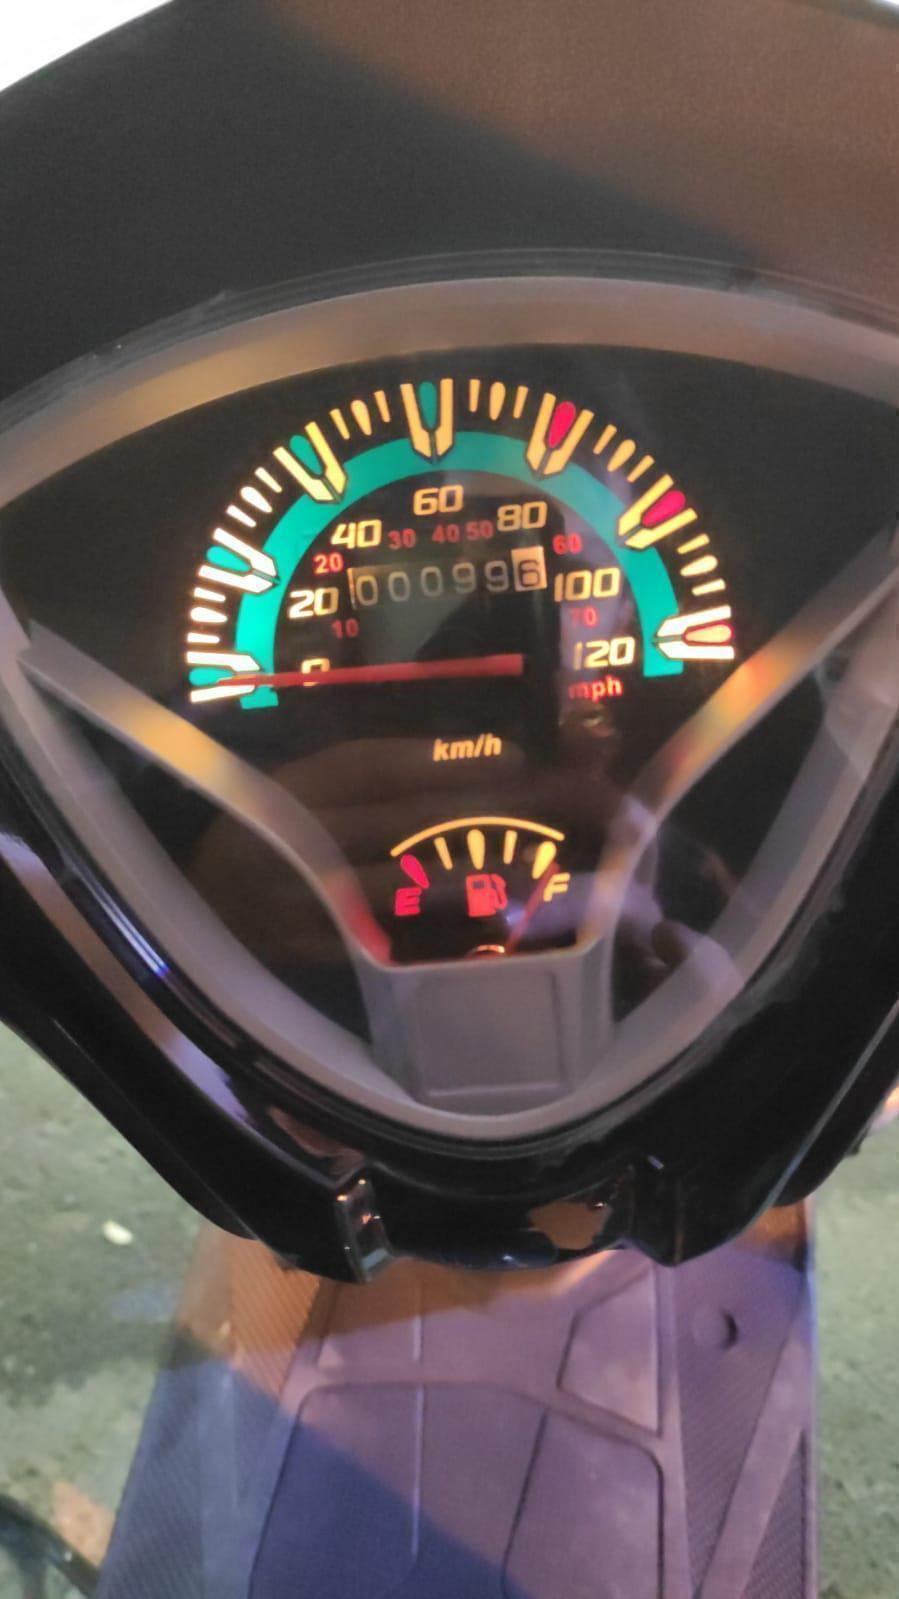0: (417, 564, 445, 597), (353, 573, 380, 606), (386, 570, 412, 604)
6: (516, 557, 543, 588)
9: (451, 560, 479, 599), (484, 558, 510, 593)
odometer: (344, 544, 550, 611)
